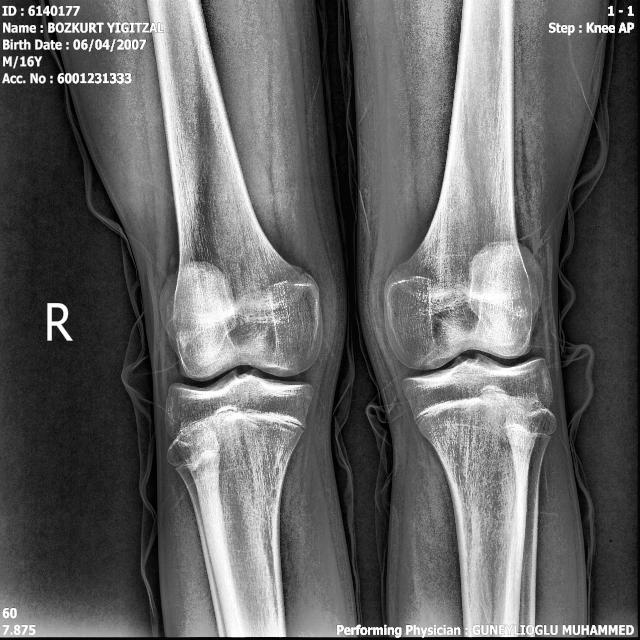Not_Fracture: (136, 0, 620, 640)
